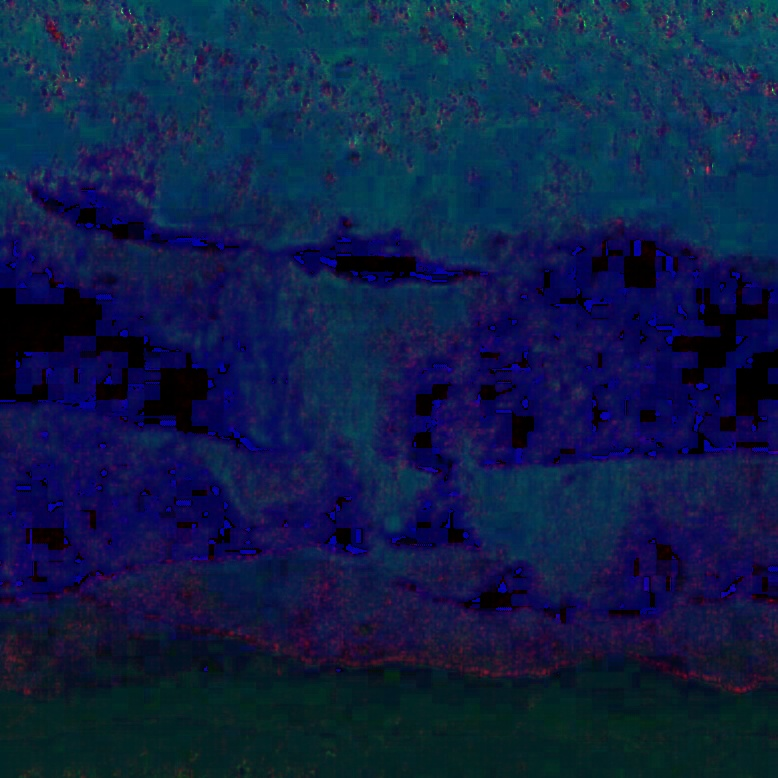rip_current: (269, 199, 475, 531)
